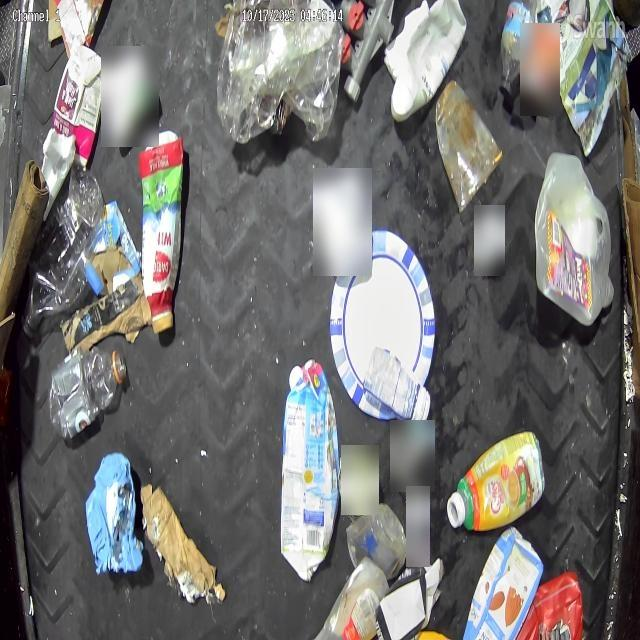milk_jug: (532, 150, 612, 326), (387, 2, 468, 122)
non_white_jug: (280, 358, 340, 584), (463, 525, 544, 640), (516, 566, 584, 640)
plastic_bottle: (23, 165, 103, 332), (51, 346, 128, 439), (499, 0, 535, 93)
